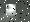person: (7, 6, 17, 20)
